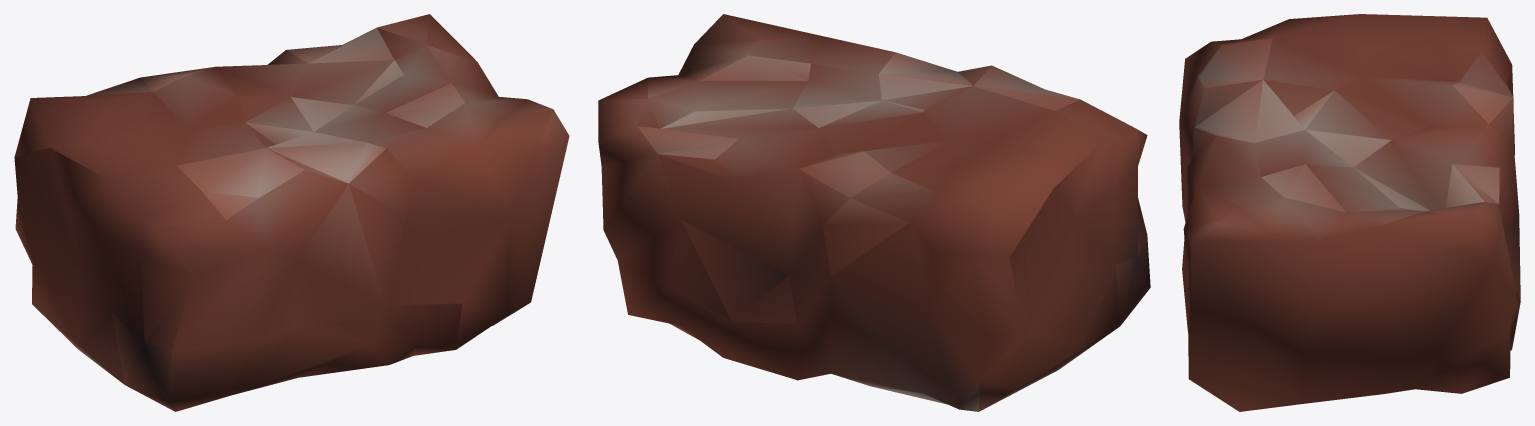
File: ember_brick_chunk_a_lod2.glb
3 renders of one model, left to right at view 1: azimuth 30°, elevation 25°; view 2: azimuth 150°, elevation 25°; view 3: azimuth 270°, elevation 25°, orthographic. The views are drawn at different scales.
Visible parts, largest first — view 1: ember_brick_chunk_a.001; view 2: ember_brick_chunk_a.001; view 3: ember_brick_chunk_a.001.
Part boxes in pixels (box(x1,y1,x2,y2)): ember_brick_chunk_a.001: box(14, 14, 569, 411); ember_brick_chunk_a.001: box(598, 14, 1150, 411); ember_brick_chunk_a.001: box(1179, 14, 1520, 411).
Size of the model in its own units: 7.36 by 3.88 by 5.08.
